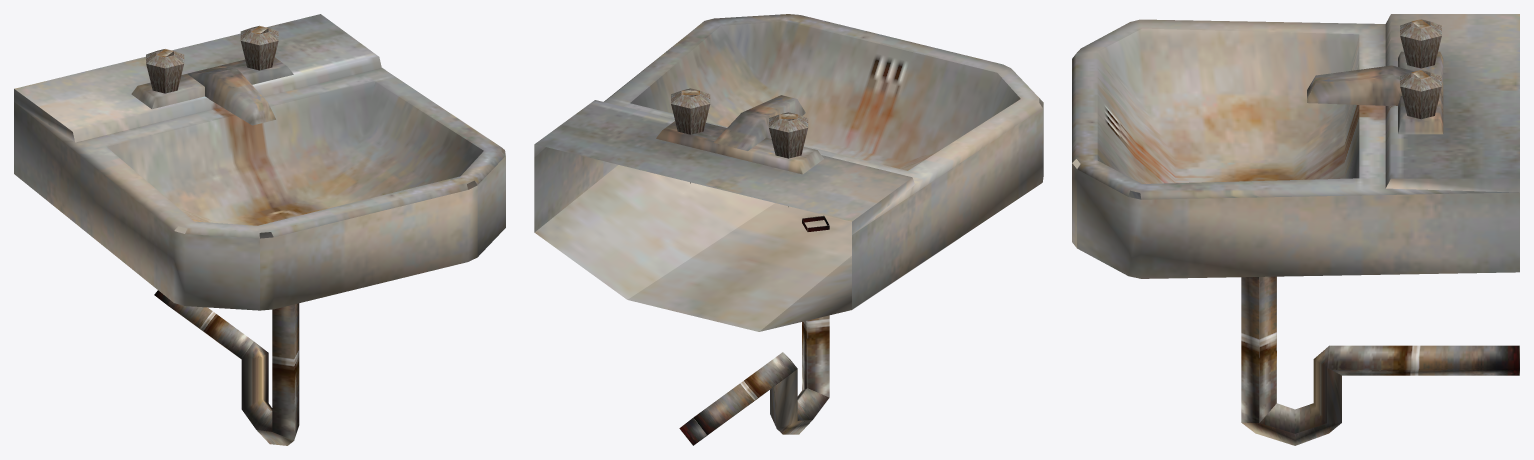
The model's file is dirtysink.fbx.
3 views of the same model, side by side, from view 1: azimuth 30°, elevation 25°; view 2: azimuth 150°, elevation 25°; view 3: azimuth 270°, elevation 25° (orthographic). The views are drawn at different scales.
Visible parts, largest first — view 1: mesh_0; view 2: mesh_0; view 3: mesh_0.
Part boxes in pixels (x1,y1,x2,y2): mesh_0: (14, 14, 505, 445); mesh_0: (534, 14, 1043, 445); mesh_0: (1072, 14, 1519, 445).
Size of the model in its own units: 53.98 by 56.19 by 57.5.
1 material, 1 textured.
